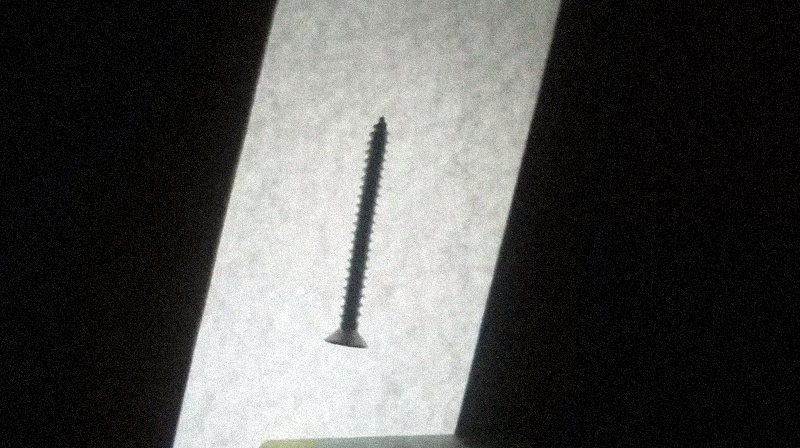S002: (321, 115, 390, 352)
